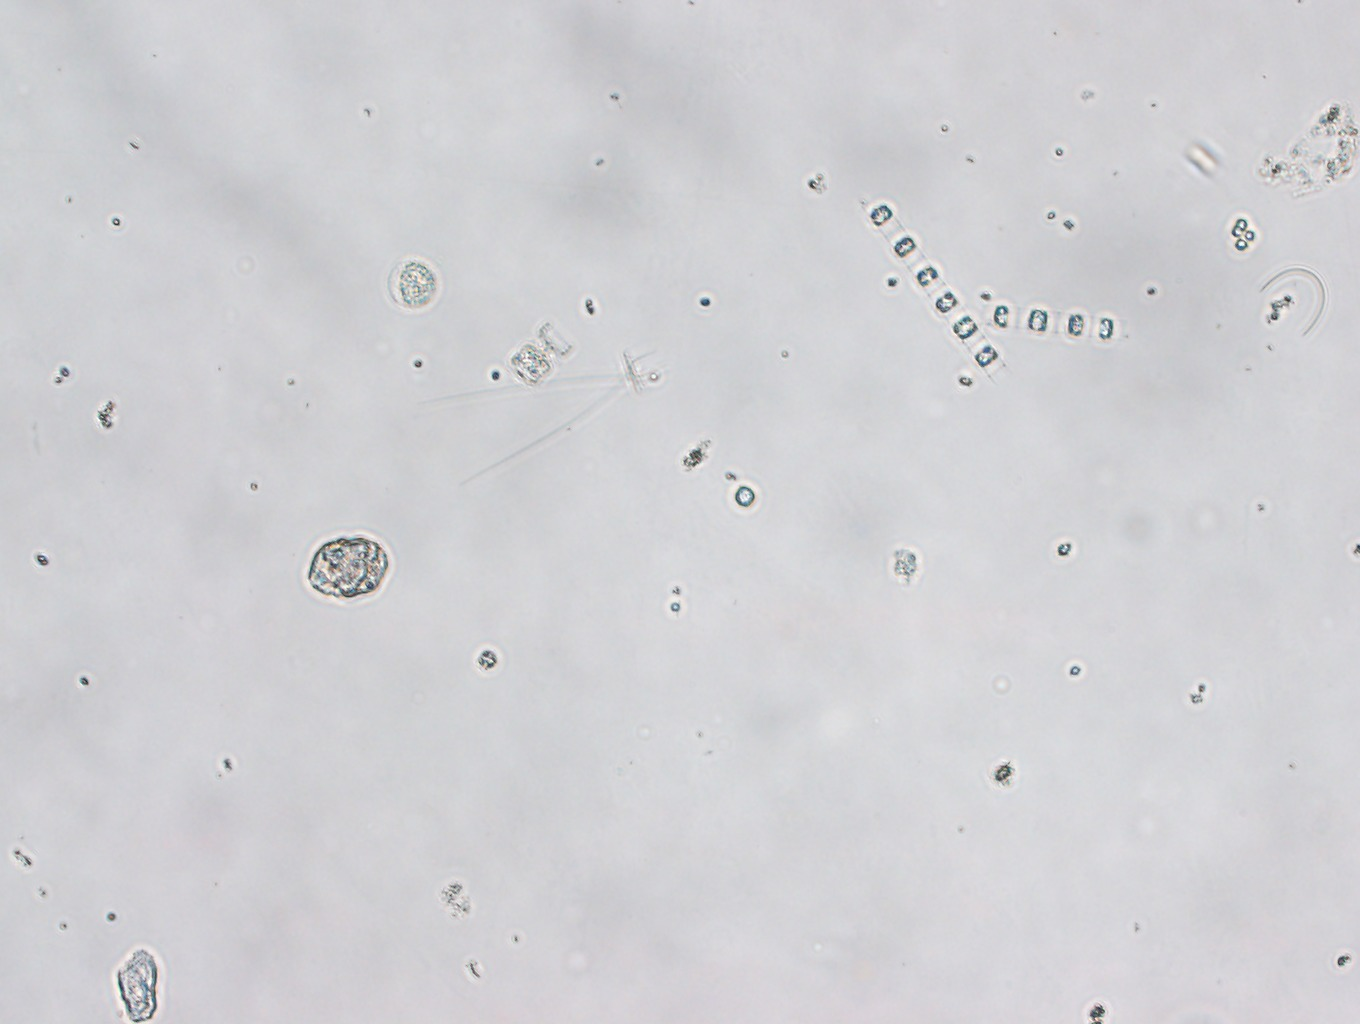skeletonema: (867, 199, 1010, 386), (979, 298, 1123, 349)
